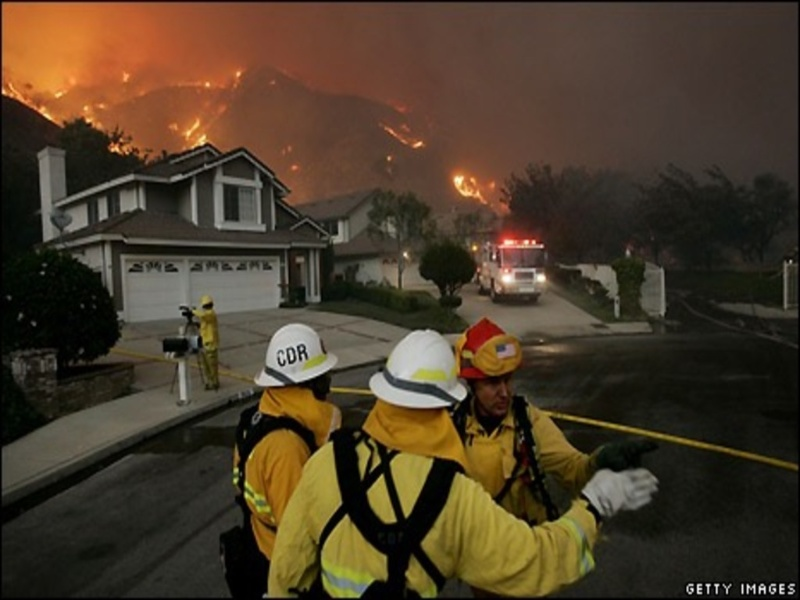helmet: (372, 329, 467, 408), (263, 324, 341, 381), (454, 328, 526, 376), (202, 297, 216, 305)
jacket: (304, 435, 513, 600), (454, 402, 574, 513), (245, 388, 331, 541), (196, 310, 219, 349)
